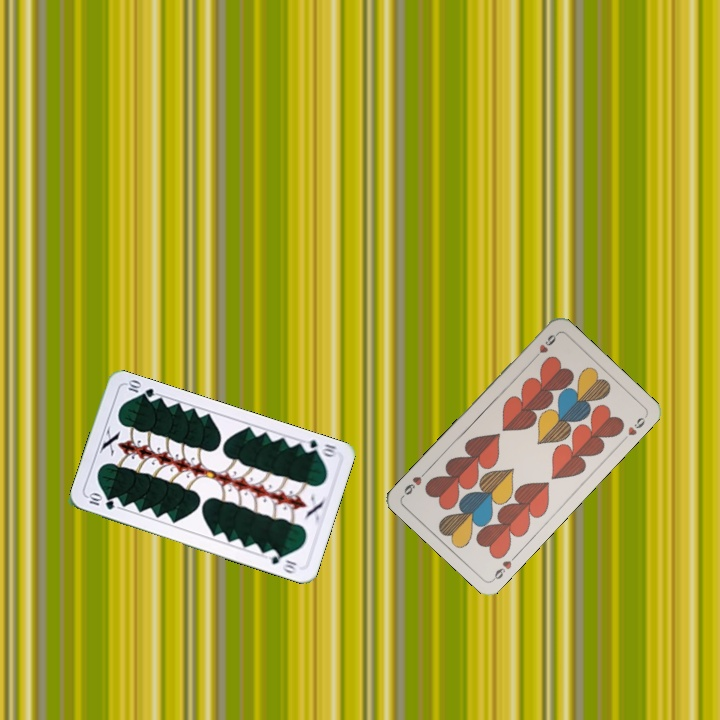G10: (298, 436, 339, 460), (84, 490, 118, 512)
H9: (488, 550, 520, 583), (529, 329, 560, 362)
